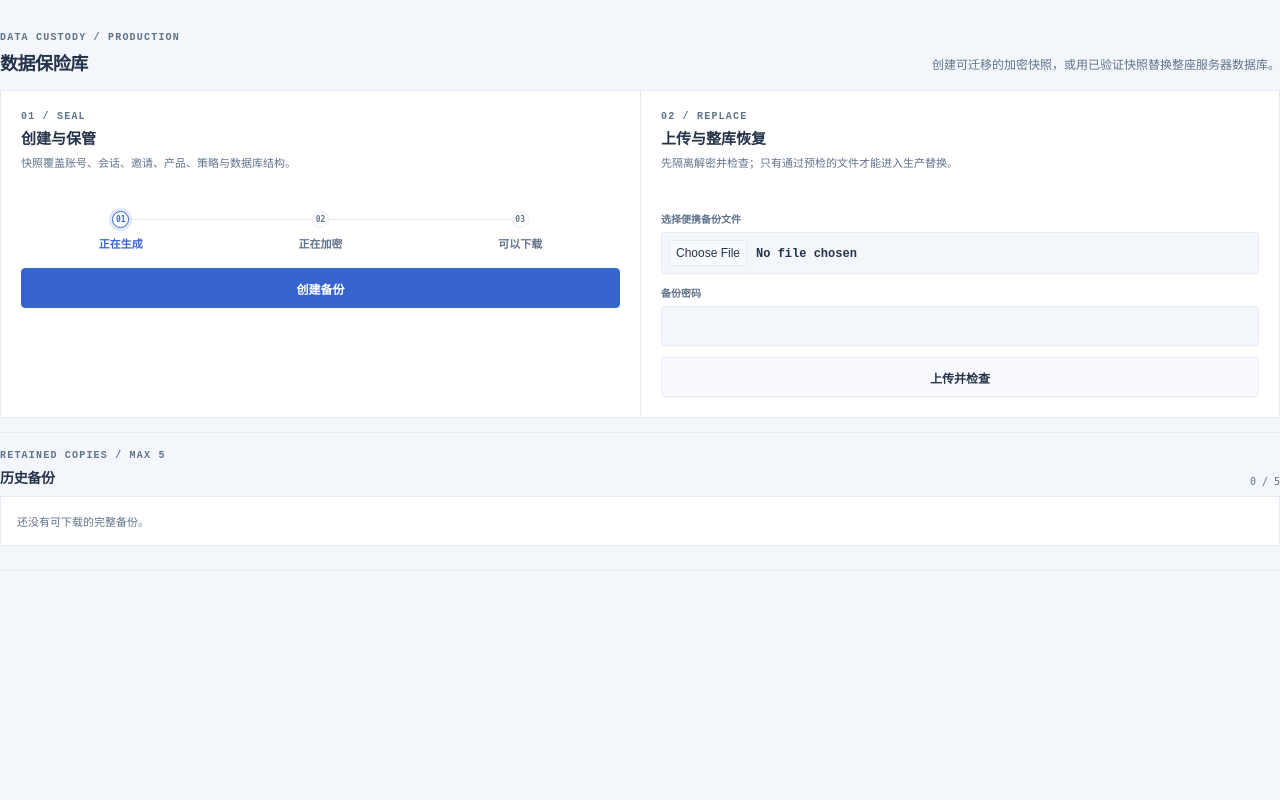
data vault backup custody › shows terminal maintenance failure codes with the originating request ID
The image size is (1280, 800).
Step 1. Click the button "创建备份" → (320,288), box x1=21 y1=268 x2=620 y2=308
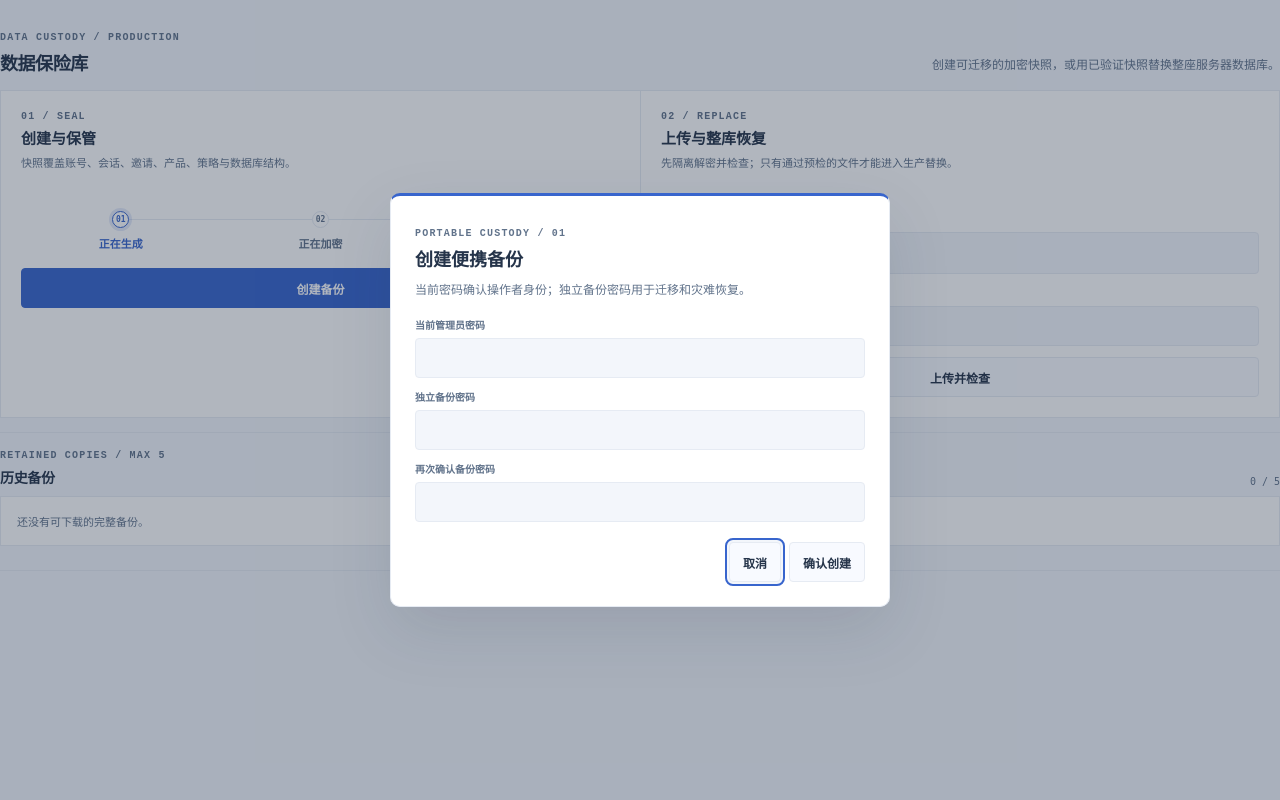
Step 2. Type "current-password" into the password field labelled "当前管理员密码" → (640,358), box x1=415 y1=338 x2=865 y2=378
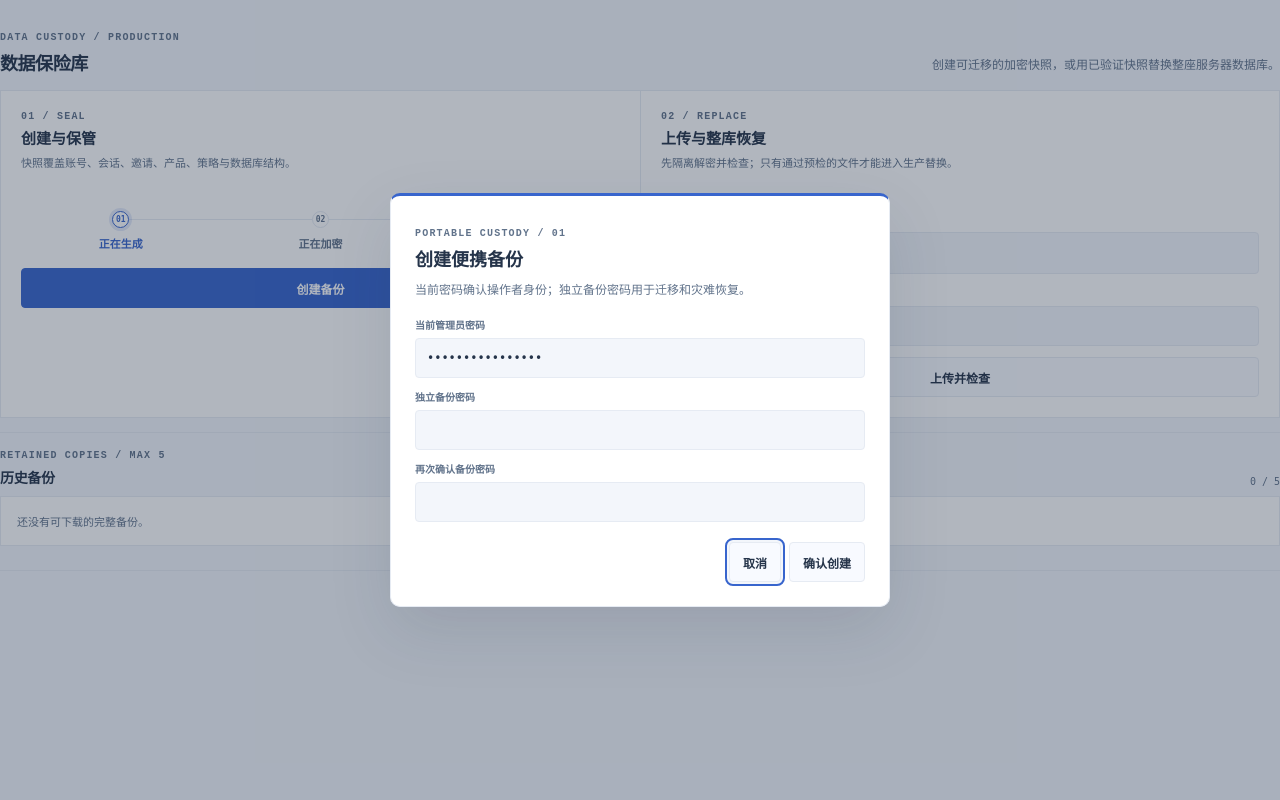
Step 3. Type "portable-password" into the password field labelled "独立备份密码" → (640,430), box x1=415 y1=410 x2=865 y2=450
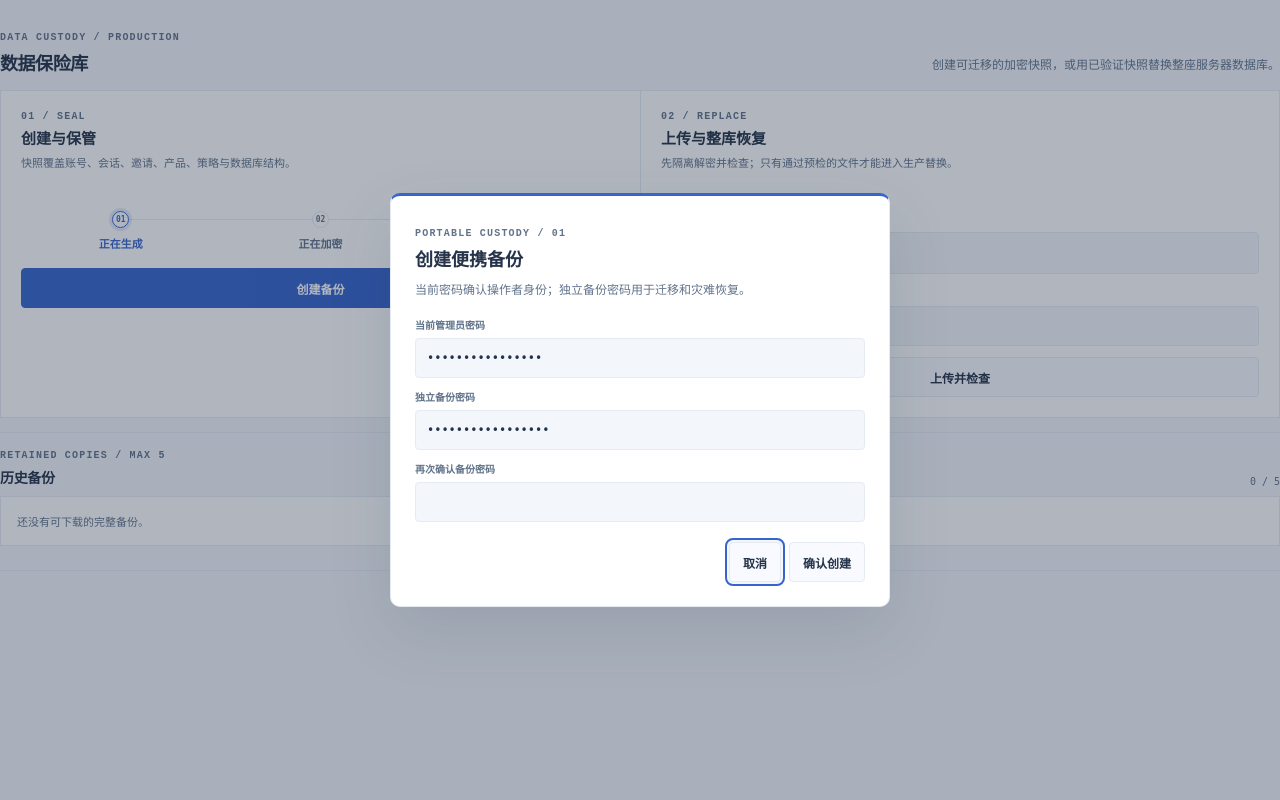
Step 4. Type "portable-password" into the password field labelled "再次确认备份密码" → (640,502), box x1=415 y1=482 x2=865 y2=522
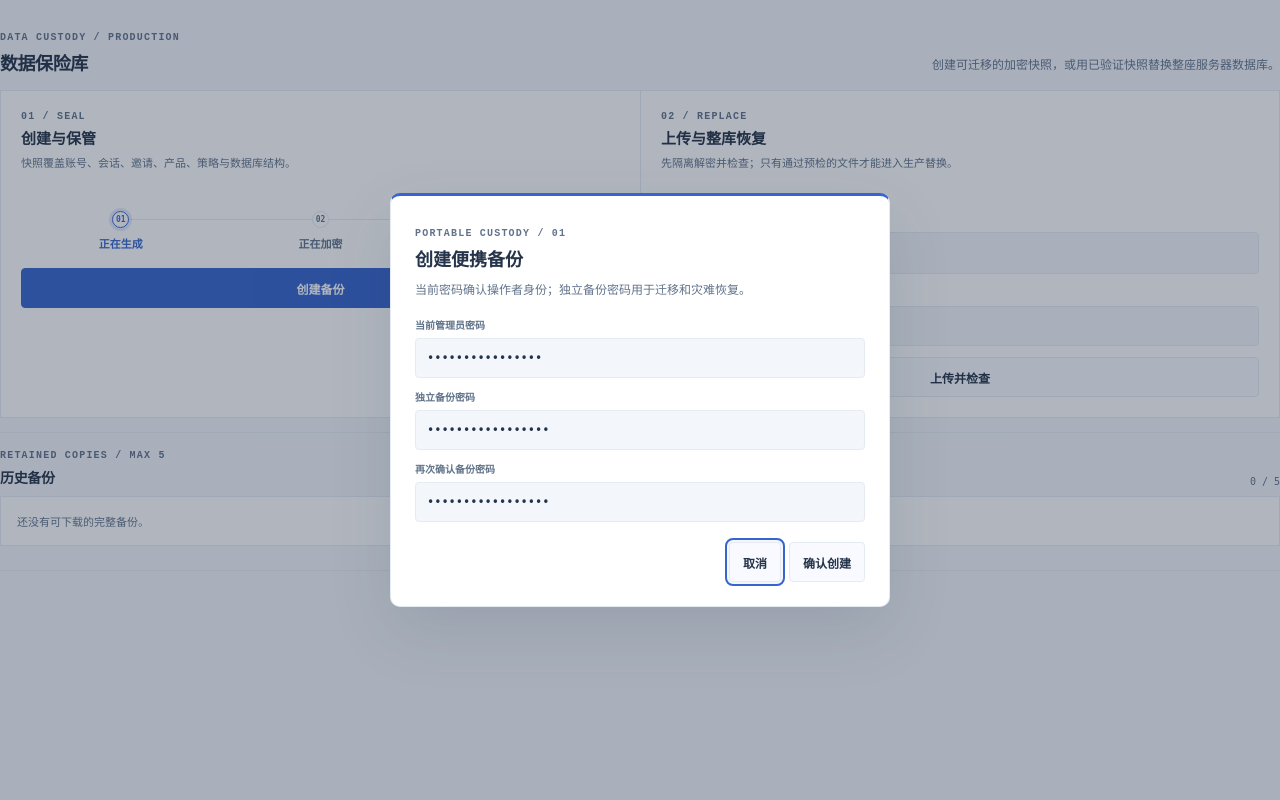
Step 5. Submit the form named "确认创建", box x1=391 y1=196 x2=889 y2=606
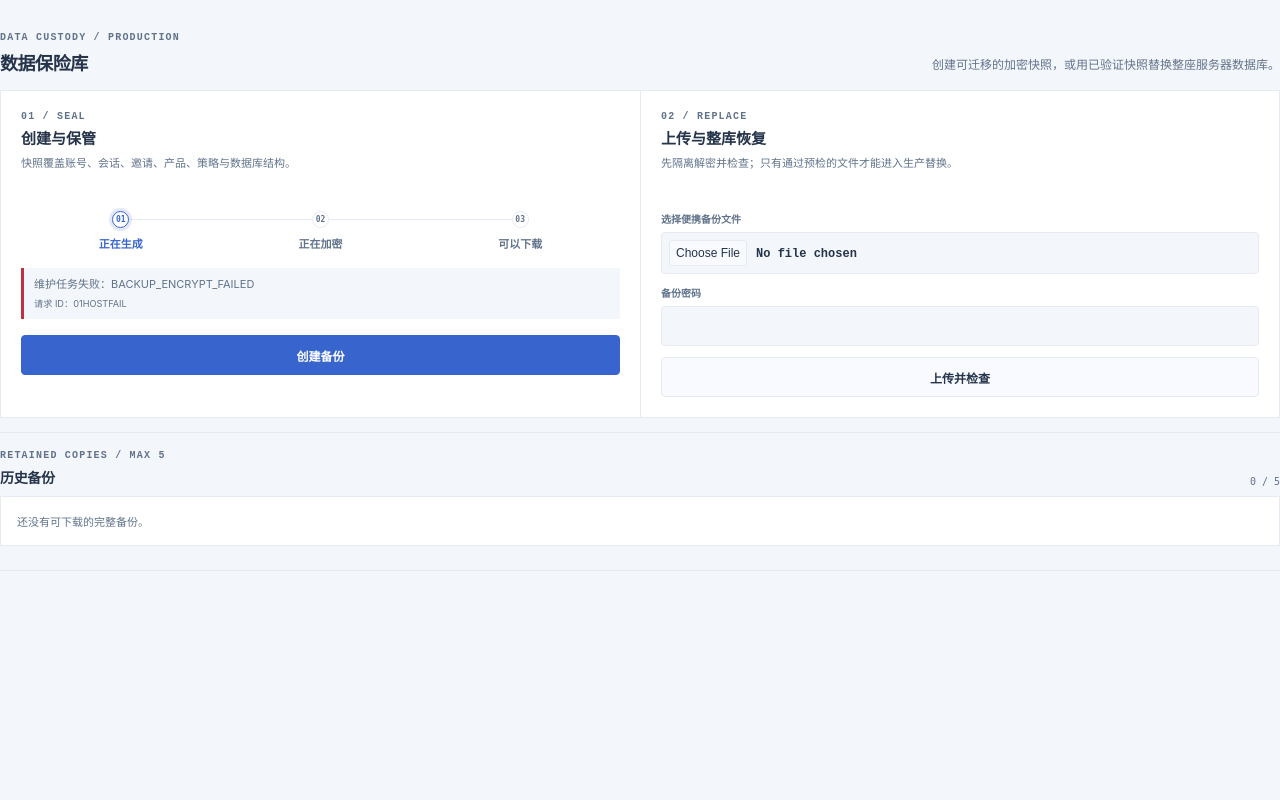
Expected: the message shows "维护任务失败：BACKUP_ENCRYPT_FAILED", x1=34 y1=277 x2=254 y2=291
Expected: the message shows "请求 ID：01HOSTFAIL", x1=21 y1=268 x2=620 y2=319
